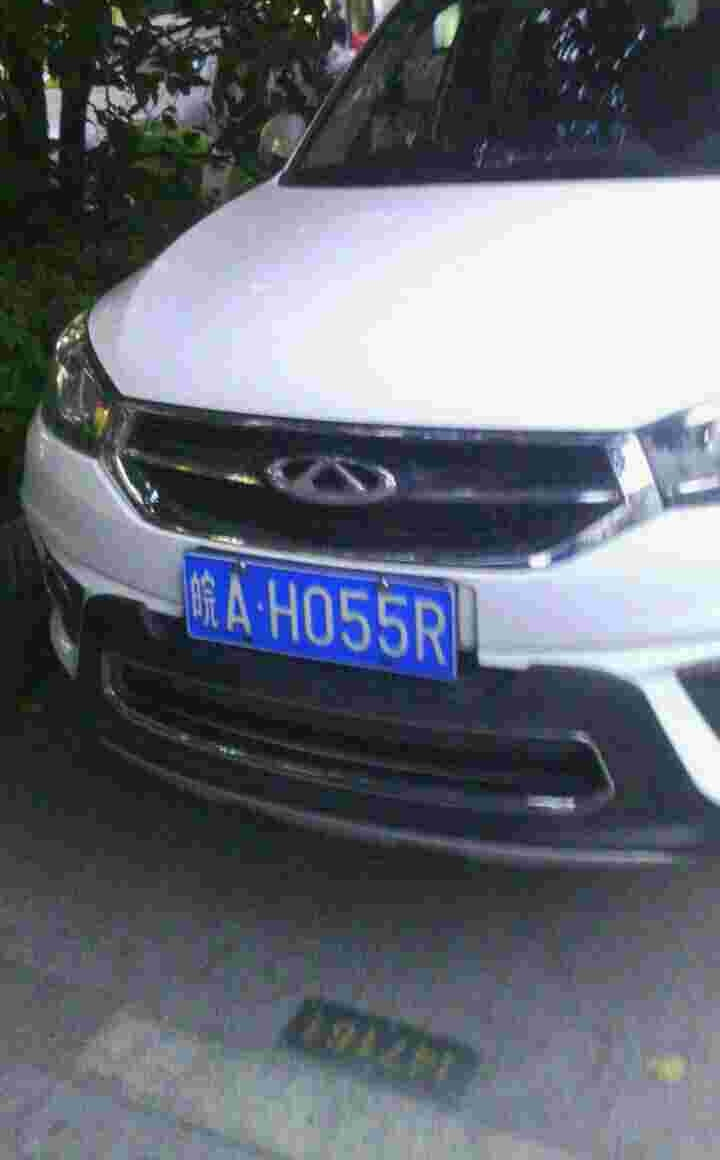license_plate: (173, 546, 468, 667)
